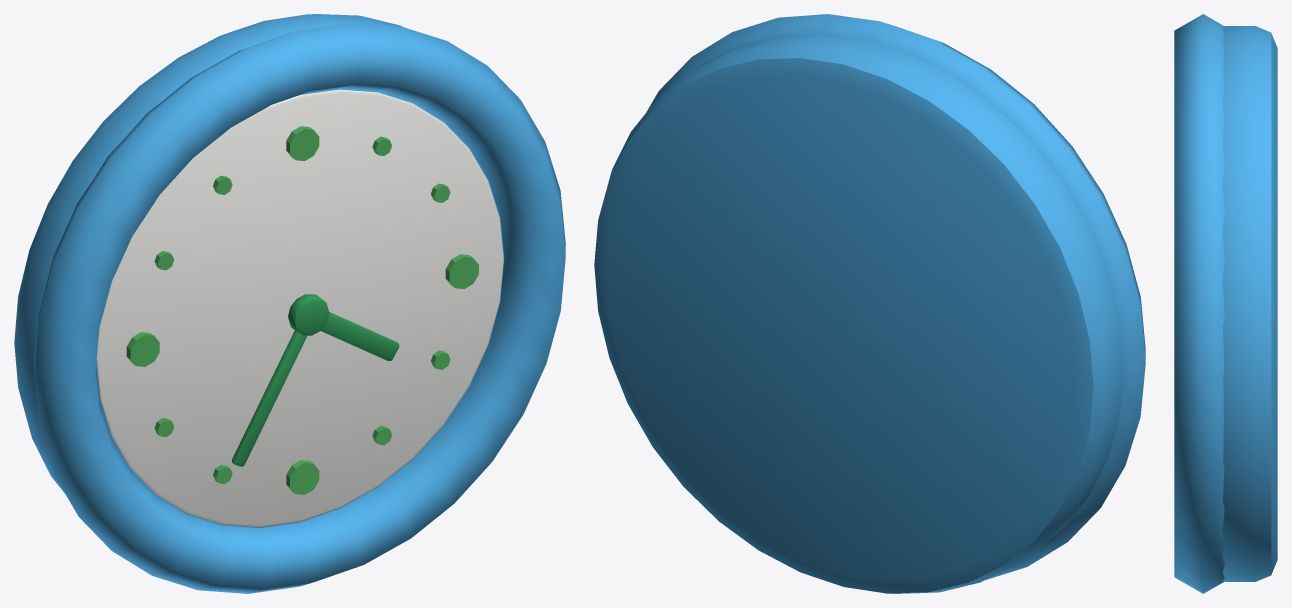
Rendered from relogio_parede_redondo_azul.glb.
3 renders of one model, left to right at view 1: azimuth 30°, elevation 25°; view 2: azimuth 150°, elevation 25°; view 3: azimuth 270°, elevation 25°, orthographic. The views are drawn at different scales.
Parts seen in each view (by area): view 1: relogio_parede_redondo_azul; view 2: relogio_parede_redondo_azul; view 3: relogio_parede_redondo_azul.
Boxes of the visible parts, x1,y1,x2,y2 form: relogio_parede_redondo_azul: (14,14,565,593); relogio_parede_redondo_azul: (594,14,1145,593); relogio_parede_redondo_azul: (1174,14,1277,593).
Bounding box in the file's own units: 0.312 × 0.312 × 0.0556.
1 material, 1 textured.
